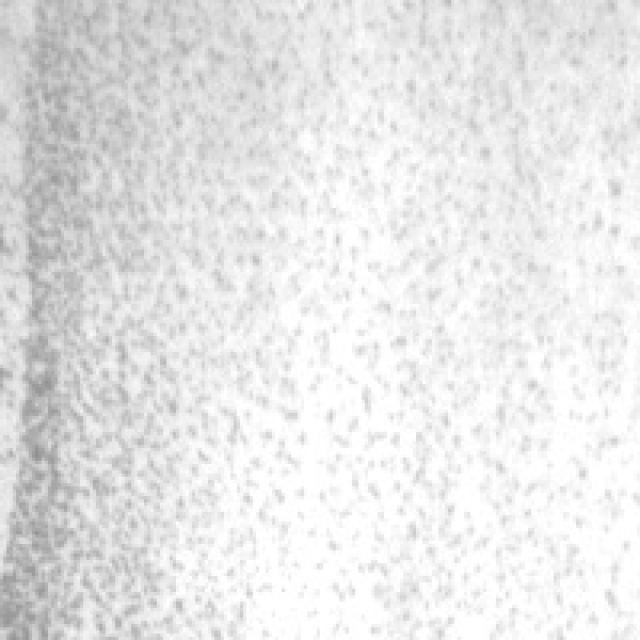pitted_surface: (0, 0, 627, 637)
